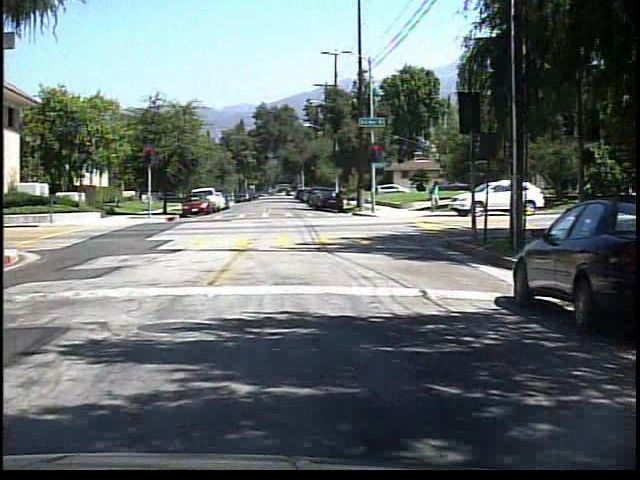person: (426, 176, 445, 216)
